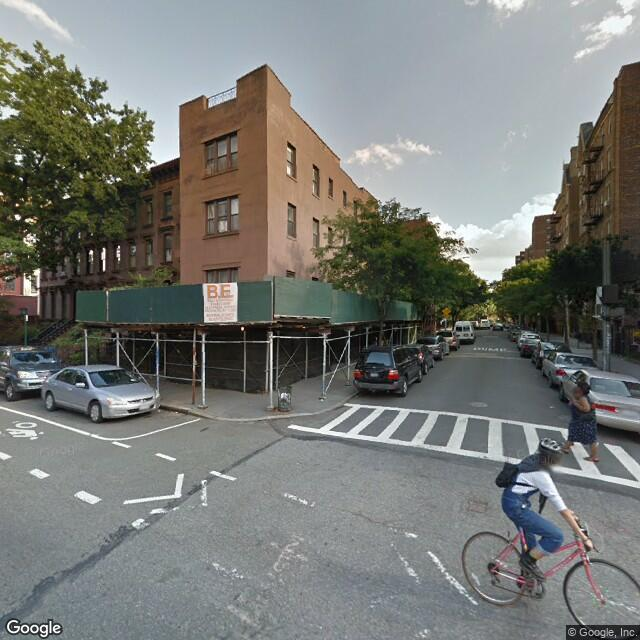litter: (317, 398, 328, 402), (550, 403, 557, 409), (176, 408, 181, 415)
